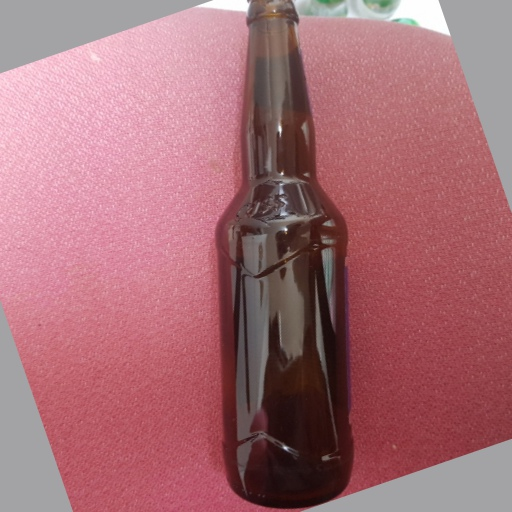Glass_1: (211, 1, 355, 507)
